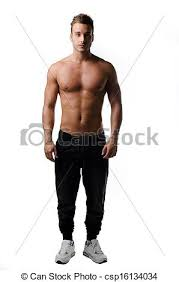standing: (37, 10, 134, 272)
